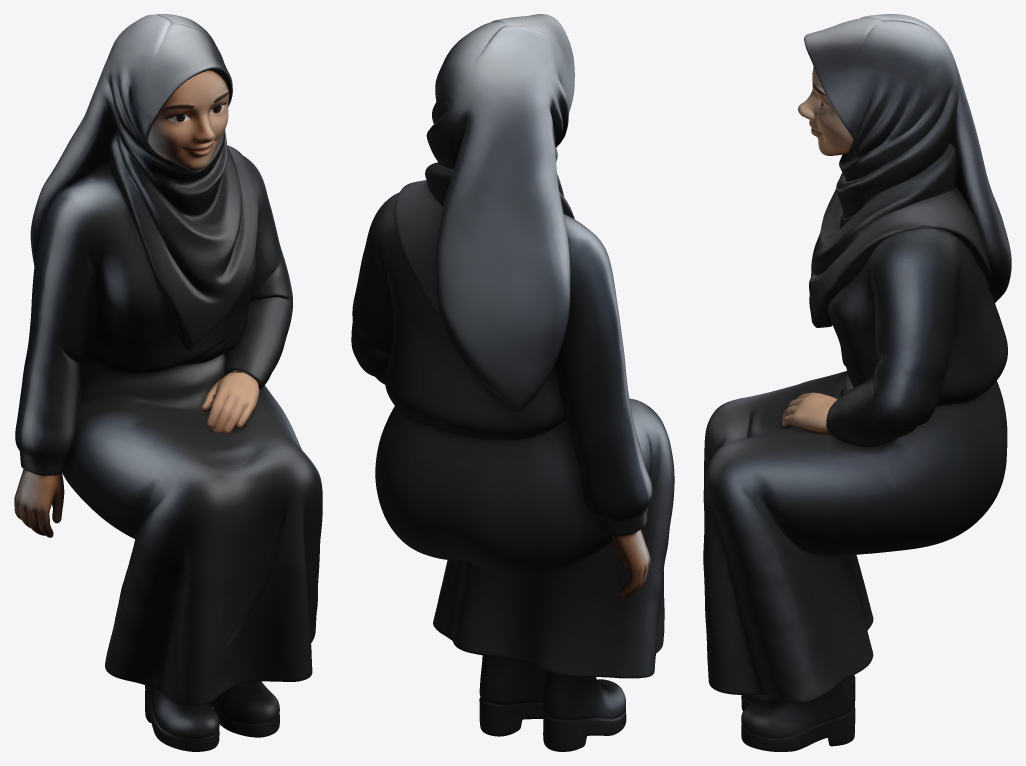
Rendered from Najma3D.fbx.
The picture shows the model from 3 angles, left to right: view 1: azimuth 30°, elevation 25°; view 2: azimuth 150°, elevation 25°; view 3: azimuth 270°, elevation 25°; orthographic projection. The views are drawn at different scales.
Visible parts, largest first — view 1: tripo_node_d9128036; view 2: tripo_node_d9128036; view 3: tripo_node_d9128036.
Part boxes in pixels (<box>): tripo_node_d9128036: <box>14,14,322,751</box>; tripo_node_d9128036: <box>351,14,674,751</box>; tripo_node_d9128036: <box>703,14,1011,751</box>.
Bounding box in the file's own units: 0.4172 × 1 × 0.3962.
